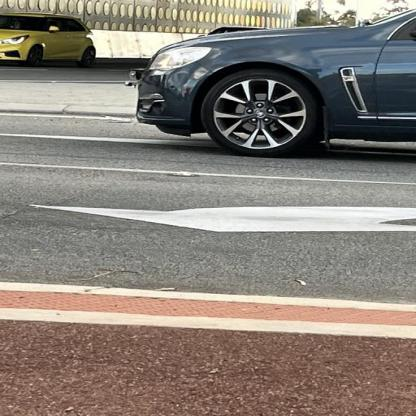Tire: (203, 69, 321, 158)
